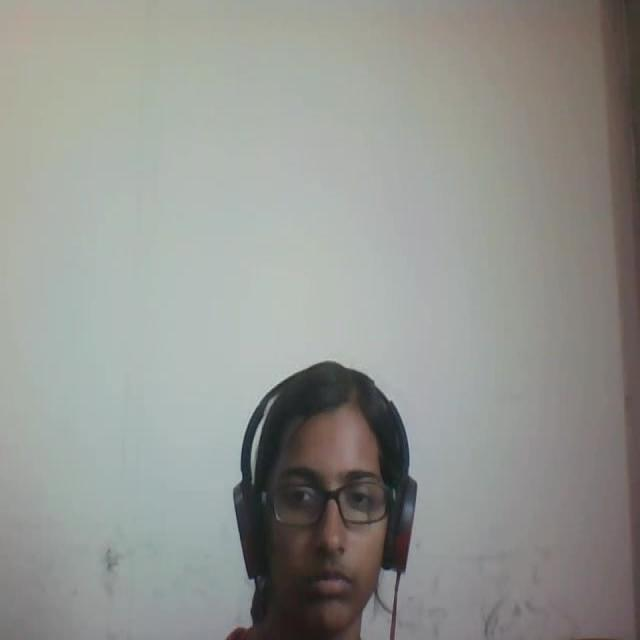Engaged: (218, 332, 434, 640)
